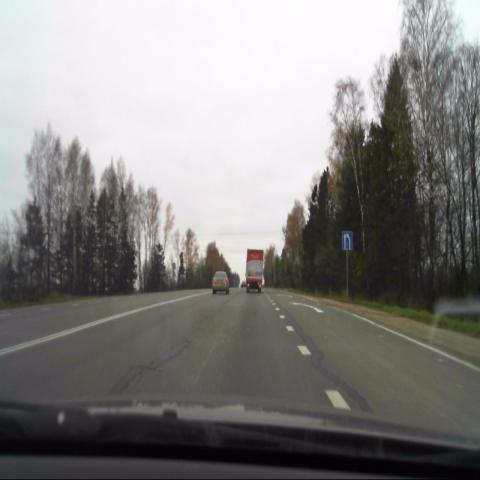5_15_5: (341, 232, 354, 254)
